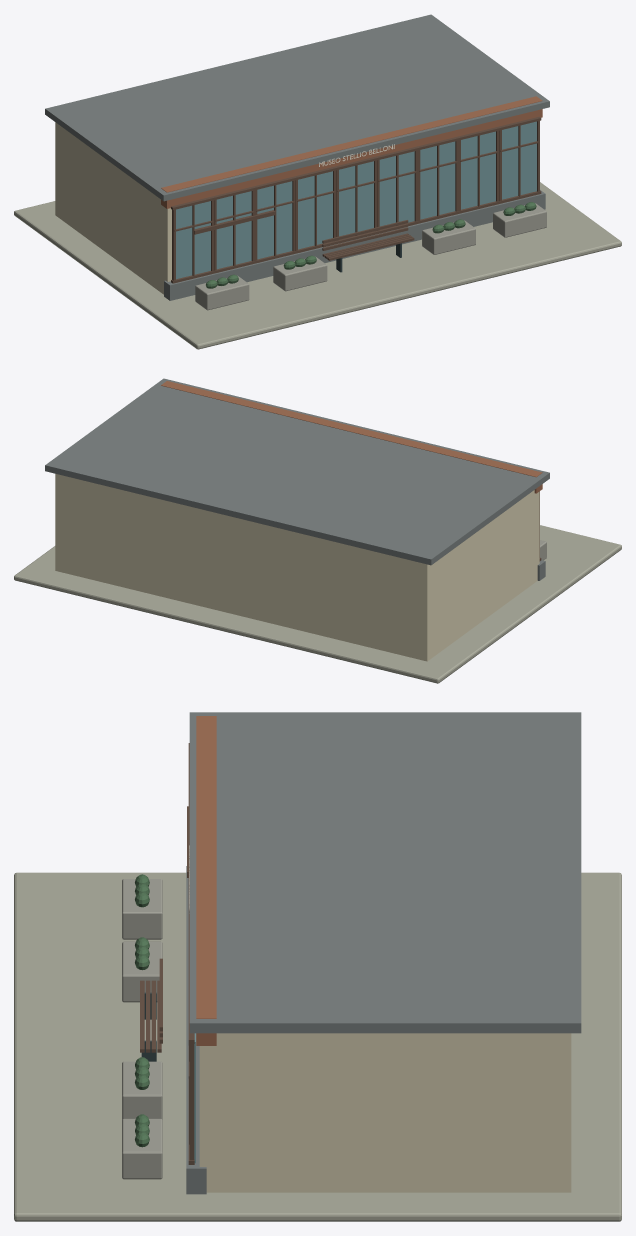
The model's file is gms-36.glb.
3 views of the same model, one above another, from view 1: azimuth 30°, elevation 25°; view 2: azimuth 150°, elevation 25°; view 3: azimuth 270°, elevation 25° (orthographic). The views are drawn at different scales.
Visible parts, largest first — view 1: Grey stone museum plinth, Context plinth, Glazed modular facade recess, Glazed modular facade jamb, Low museum building, Red-brick upper parapet, Low rectangular concrete planter, Small planter greenery; view 2: Low museum building, Grey stone museum plinth, Context plinth, Red-brick upper parapet; view 3: Grey stone museum plinth, Context plinth, Low museum building, Low rectangular concrete planter, Red-brick upper parapet, Glazed modular facade jamb, Small planter greenery.
Boxes of the visible parts, x1,y1,x2,y2 form: Grey stone museum plinth: (45,14,549,300); Context plinth: (14,182,621,349); Glazed modular facade recess: (176,121,536,279); Glazed modular facade jamb: (171,116,541,283); Low museum building: (55,122,171,294); Red-brick upper parapet: (161,96,542,208); Low rectangular concrete planter: (195,203,546,310); Small planter greenery: (206,202,536,288); Low museum building: (55,474,539,661); Grey stone museum plinth: (45,378,549,580); Context plinth: (14,525,621,683); Red-brick upper parapet: (161,381,542,493); Grey stone museum plinth: (186,712,581,1194); Context plinth: (14,872,621,1221); Low museum building: (199,1033,571,1192); Low rectangular concrete planter: (122,879,162,1179); Red-brick upper parapet: (196,716,216,1045); Glazed modular facade jamb: (140,743,194,1164); Small planter greenery: (135,874,149,1147).
Bounding box in the file's own units: 12 × 3.01 × 9.
